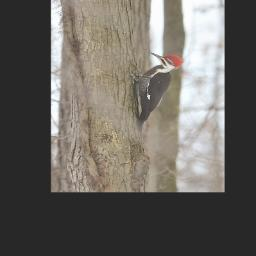Woodpecker: (126, 52, 185, 139)
